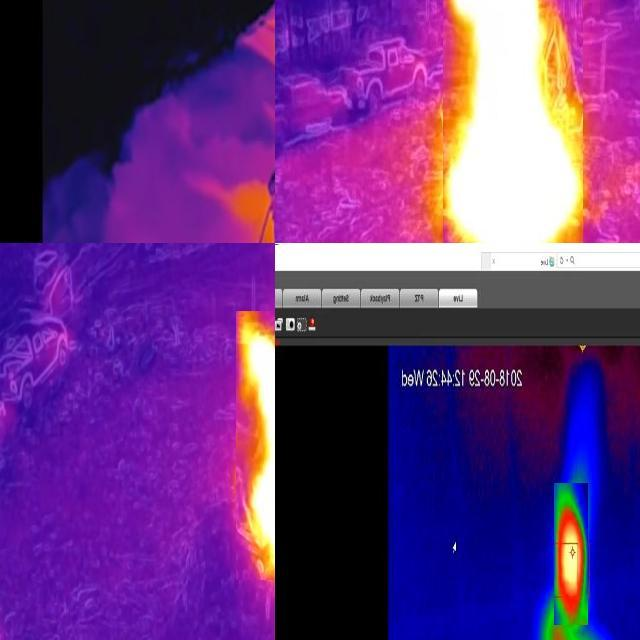fire: (443, 1, 583, 244), (236, 311, 276, 580), (554, 483, 588, 625)
